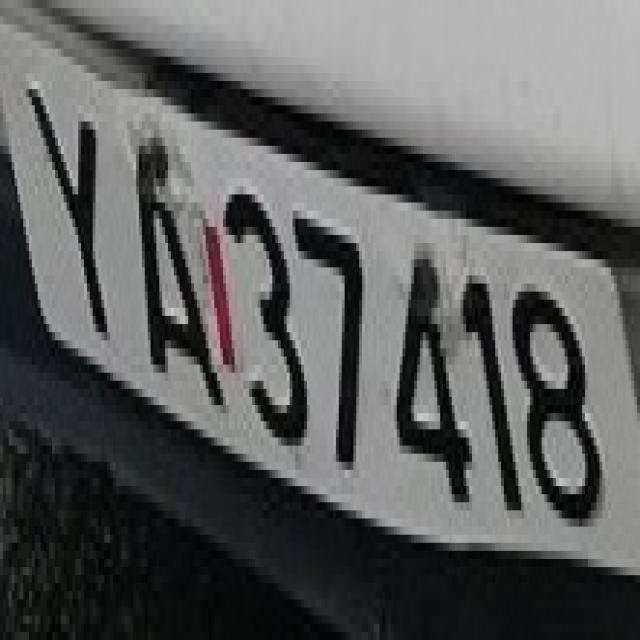1: (437, 251, 527, 519)
3: (205, 162, 312, 454)
4: (370, 211, 472, 502)
7: (278, 178, 380, 462)
8: (492, 260, 614, 518)
A: (104, 97, 223, 405)
Y: (9, 56, 124, 332)
